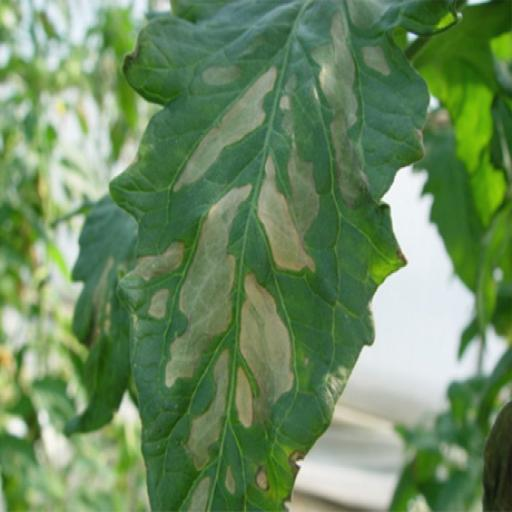Bacterial Spot: (112, 0, 438, 508)
